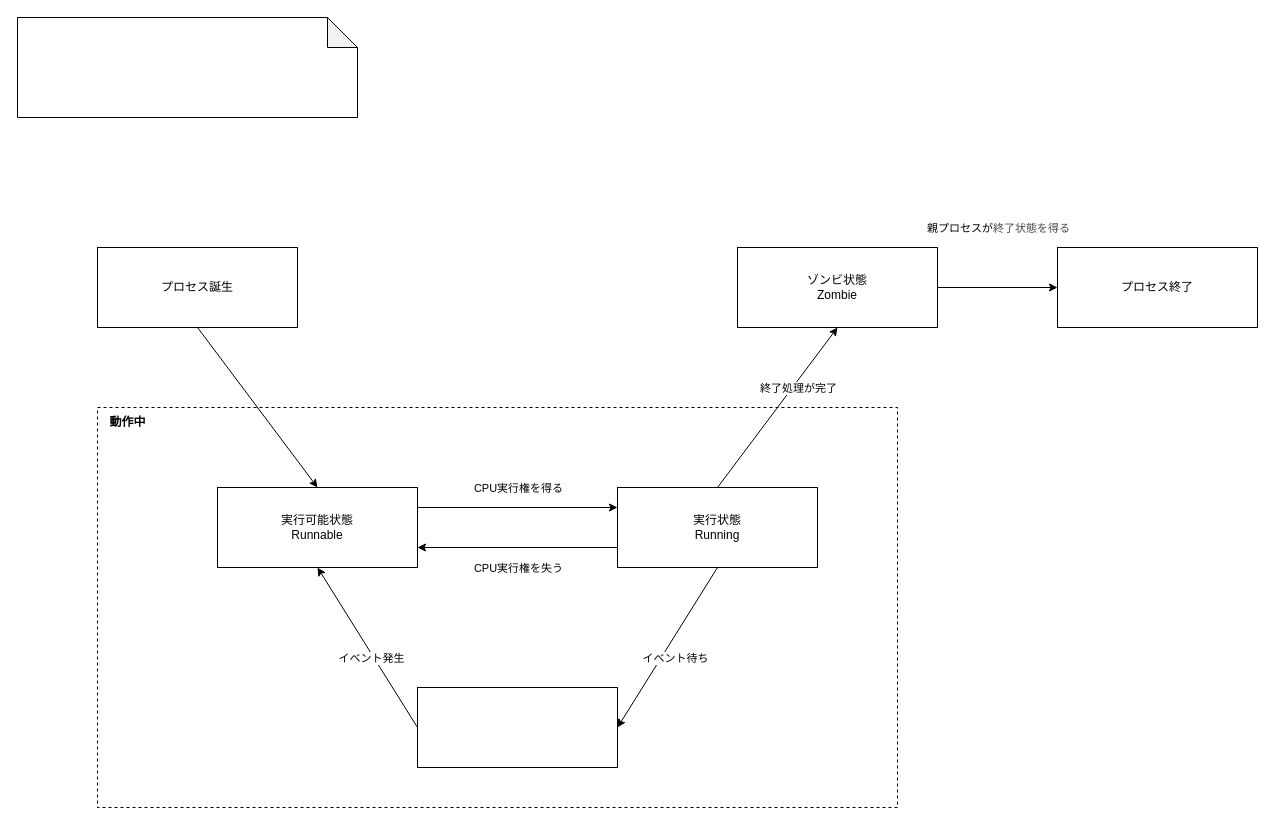
The diagram is 1275 pixels wide and 825 high, and some of its shapes have lost their labels. Each missing label, with the centre of its shape:
"スリープ状態" goes at pixel 517 727.
"プロセスの状態遷移" goes at pixel 187 67.
